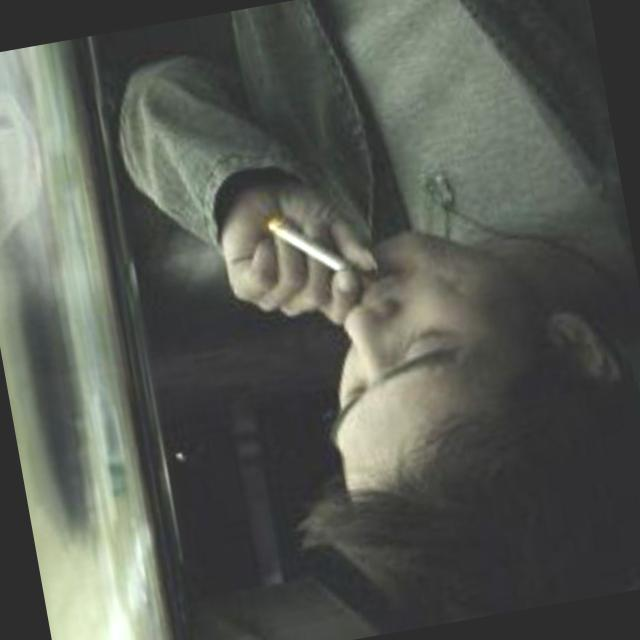smoke: (242, 184, 372, 313)
